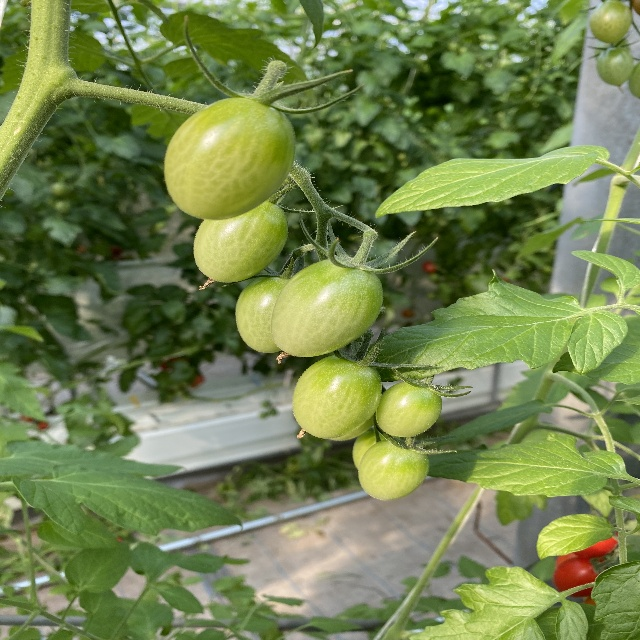l_fully_ripened: (553, 558, 608, 597), (573, 530, 618, 558)
l_green: (163, 94, 297, 221), (270, 259, 384, 357), (292, 351, 382, 440), (194, 200, 289, 284), (235, 276, 295, 354), (359, 439, 431, 499), (375, 378, 441, 437), (590, 0, 633, 44), (352, 427, 394, 470), (595, 46, 637, 87)
